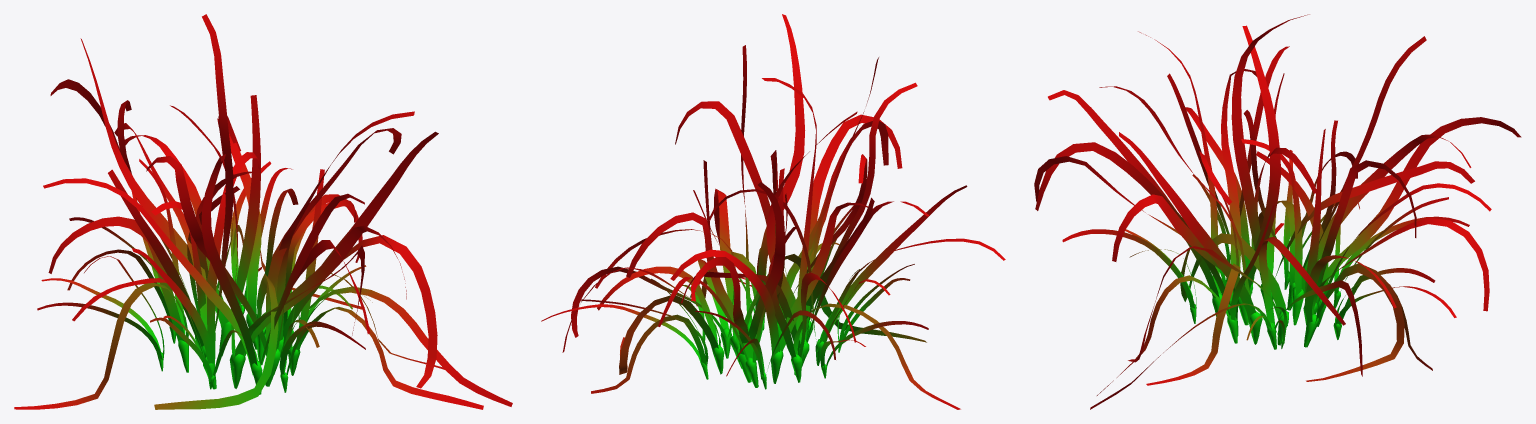
The model's file is Var2_LOD0.fbx.
The picture shows the model from 3 angles, left to right: view 1: azimuth 30°, elevation 25°; view 2: azimuth 150°, elevation 25°; view 3: azimuth 270°, elevation 25°; orthographic projection. The views are drawn at different scales.
Parts seen in each view (by area): view 1: _dffe_Var2_LOD0; view 2: _dffe_Var2_LOD0; view 3: _dffe_Var2_LOD0.
Boxes of the visible parts, left/top/right/bottom form: _dffe_Var2_LOD0: left=14, top=14, right=512, bottom=409; _dffe_Var2_LOD0: left=541, top=14, right=1005, bottom=409; _dffe_Var2_LOD0: left=1034, top=14, right=1521, bottom=409.
Bounding box in the file's own units: 53.05 × 44.95 × 63.03.
